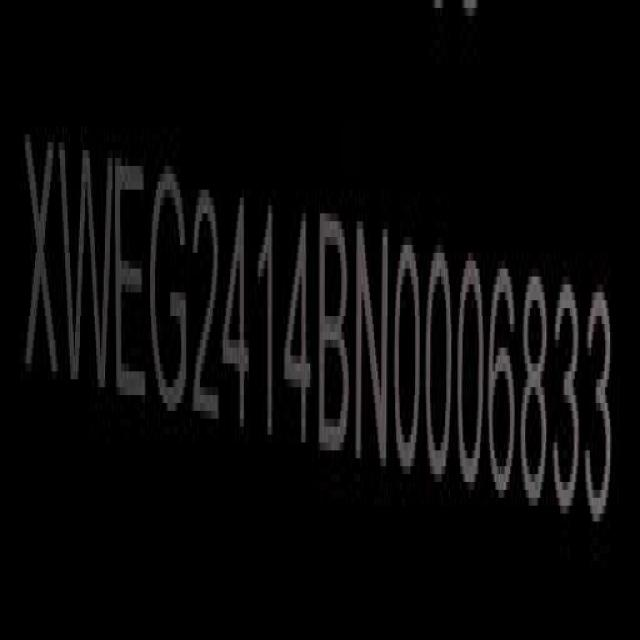0: (396, 230, 424, 481), (428, 240, 455, 487), (459, 253, 486, 490)
1: (258, 192, 276, 444)
2: (193, 176, 224, 432)
3: (590, 286, 618, 534), (552, 278, 580, 520)
4: (285, 208, 315, 456), (223, 182, 250, 438)
6: (488, 258, 516, 497)
8: (521, 270, 549, 508)
B: (318, 207, 352, 467)
E: (116, 143, 148, 416)
G: (150, 156, 187, 422)
N: (355, 208, 390, 474)
W: (62, 122, 114, 408)
X: (22, 118, 59, 400)
